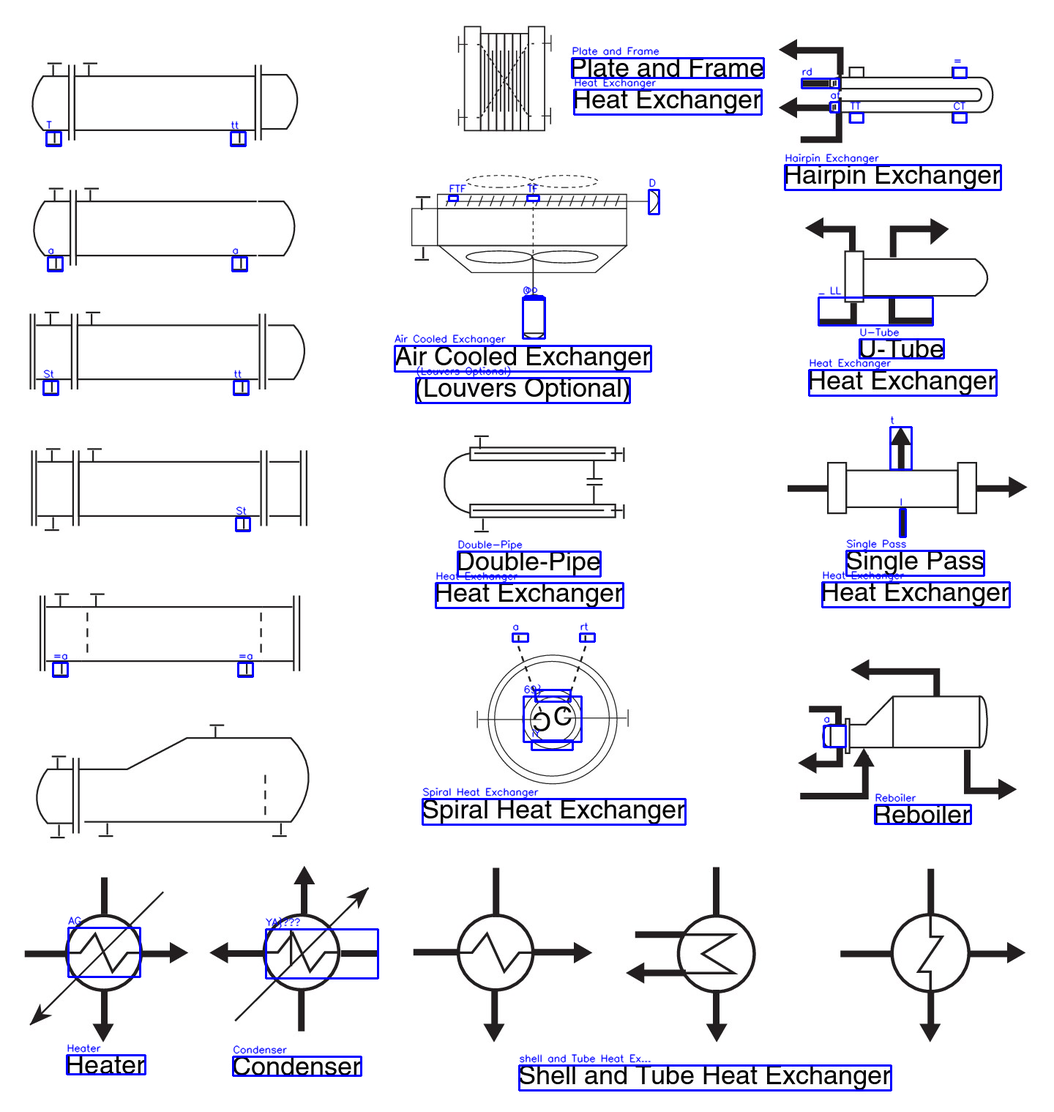TrocadordeCalor: (404, 151, 665, 343), (831, 862, 1029, 1047), (790, 656, 1019, 810), (29, 719, 313, 843), (406, 862, 594, 1045), (205, 862, 388, 1044), (15, 869, 194, 1048), (778, 422, 1031, 543), (27, 51, 304, 153), (23, 441, 314, 538), (468, 625, 638, 789), (23, 304, 312, 400), (769, 35, 997, 148), (621, 859, 760, 1042), (23, 589, 304, 679), (29, 181, 302, 273), (799, 211, 990, 334), (436, 430, 634, 540), (451, 20, 559, 135)
